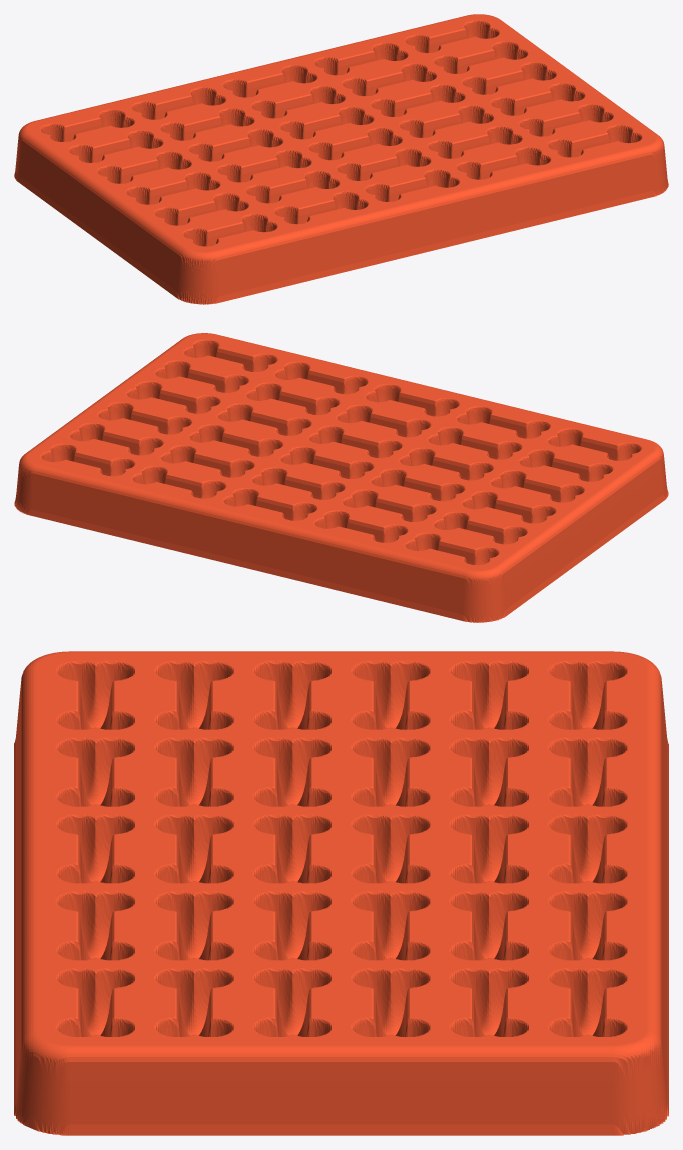
File: mold.glb
The picture shows the model from 3 angles, top to bottom: view 1: azimuth 30°, elevation 25°; view 2: azimuth 150°, elevation 25°; view 3: azimuth 270°, elevation 25°; orthographic projection. The views are drawn at different scales.
Parts seen in each view (by area): view 1: geometry_0; view 2: geometry_0; view 3: geometry_0.
Boxes of the visible parts, left/top/right/bottom form: geometry_0: left=14, top=14, right=668, bottom=304; geometry_0: left=14, top=333, right=668, bottom=622; geometry_0: left=14, top=651, right=668, bottom=1135.
Size of the model in its own units: 0.1578 by 0.0145 by 0.1063.
